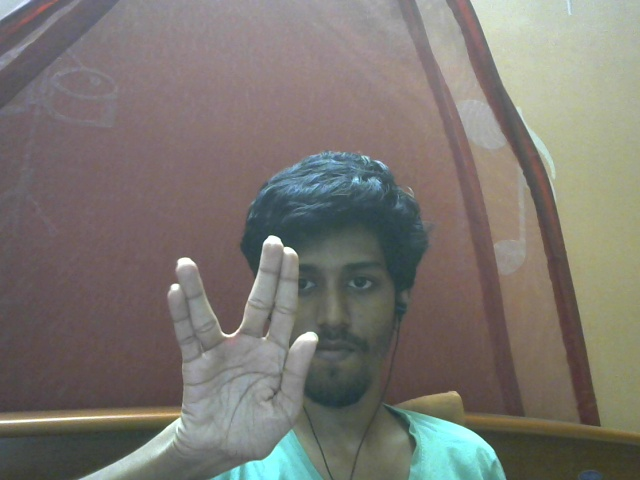LiveLong: (167, 235, 318, 467)
